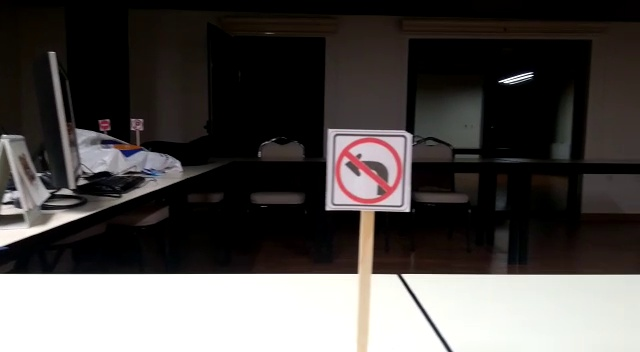sola_donulmez: (337, 137, 402, 209)
